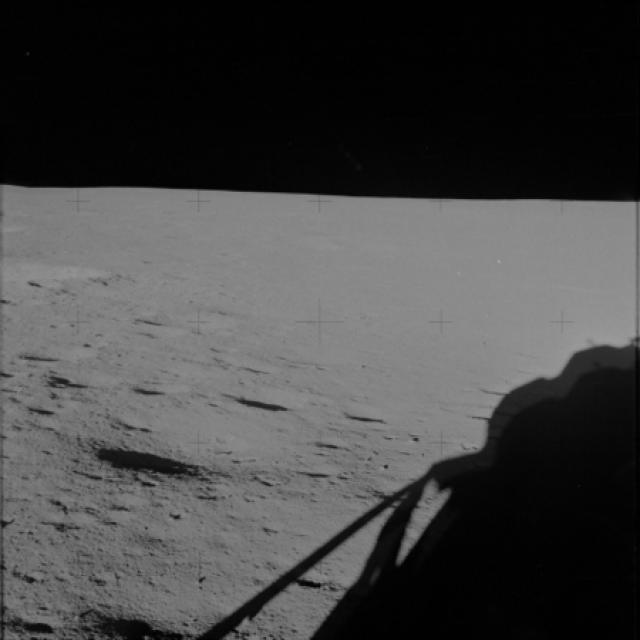crater: (84, 424, 273, 502), (70, 580, 244, 639), (0, 245, 111, 298), (122, 304, 261, 342), (223, 387, 314, 420), (1, 341, 82, 375), (316, 396, 406, 425), (18, 368, 93, 402), (298, 431, 361, 463), (112, 374, 178, 404), (294, 464, 336, 493)
rock: (271, 552, 342, 600)
